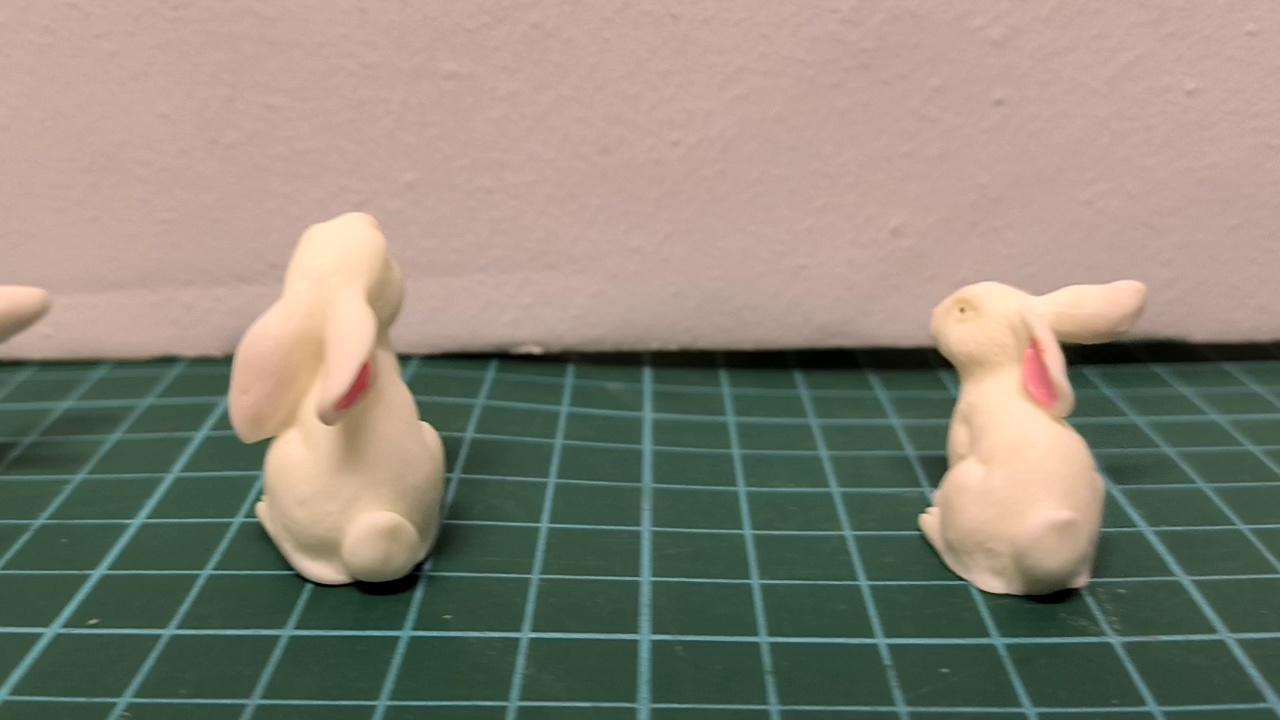pet: (231, 209, 444, 589), (918, 278, 1148, 597)
